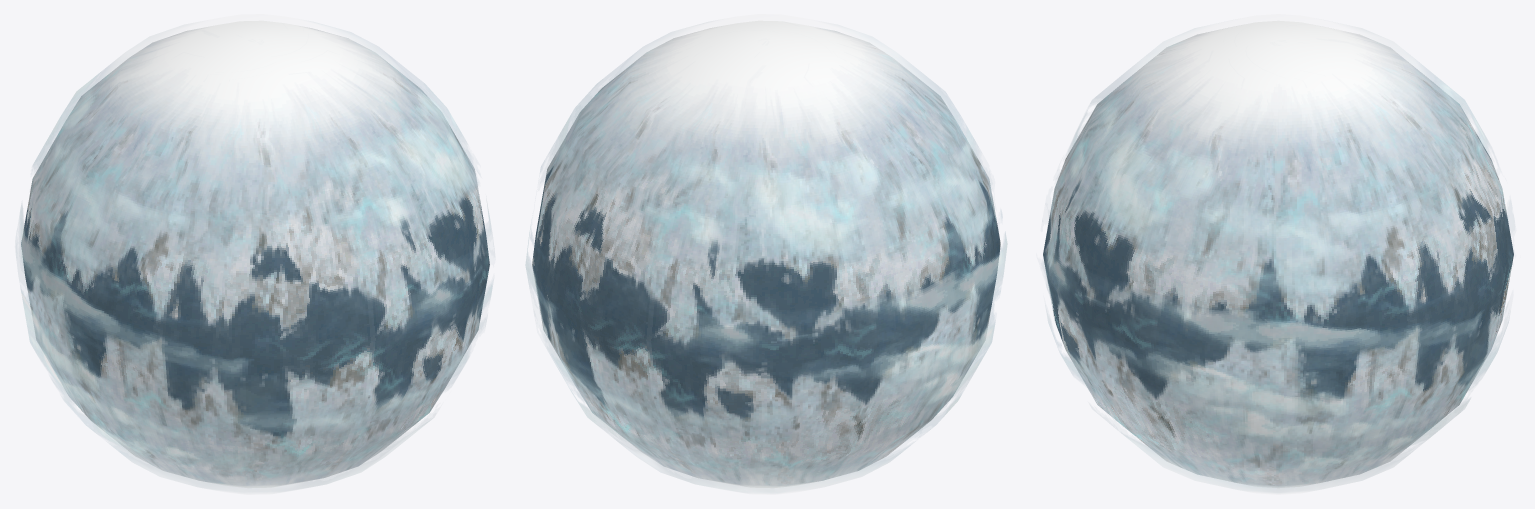
Rendered from pice_cmp.gltf.
3 views of the same model, side by side, from view 1: azimuth 30°, elevation 25°; view 2: azimuth 150°, elevation 25°; view 3: azimuth 270°, elevation 25° (orthographic).
Visible parts, largest first — view 1: Root, clouds; view 2: Root, clouds; view 3: Root, clouds.
Part boxes in pixels (<box>): Root: <box>21,20,489,488</box>; clouds: <box>16,14,492,494</box>; Root: <box>532,20,1000,488</box>; clouds: <box>525,14,1007,494</box>; Root: <box>1043,20,1513,488</box>; clouds: <box>1042,14,1509,494</box>.
Size of the model in its own units: 44.28 by 44.28 by 44.28.
2 materials, 2 textured.
